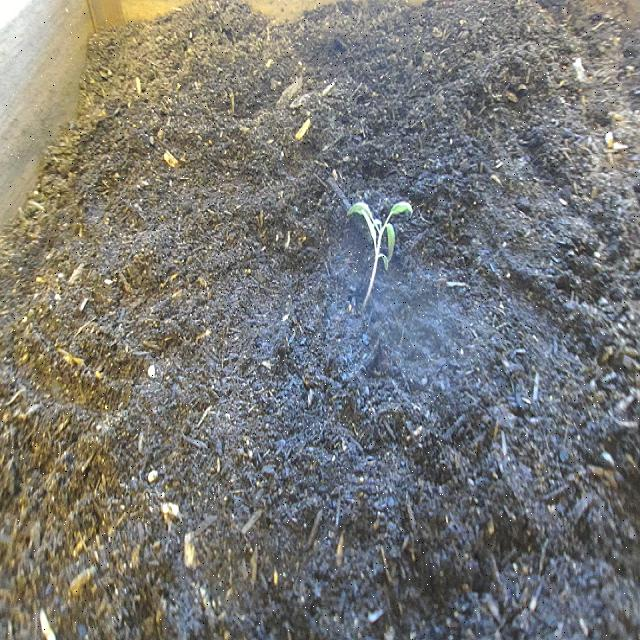Unhealthy: (346, 189, 416, 311)
